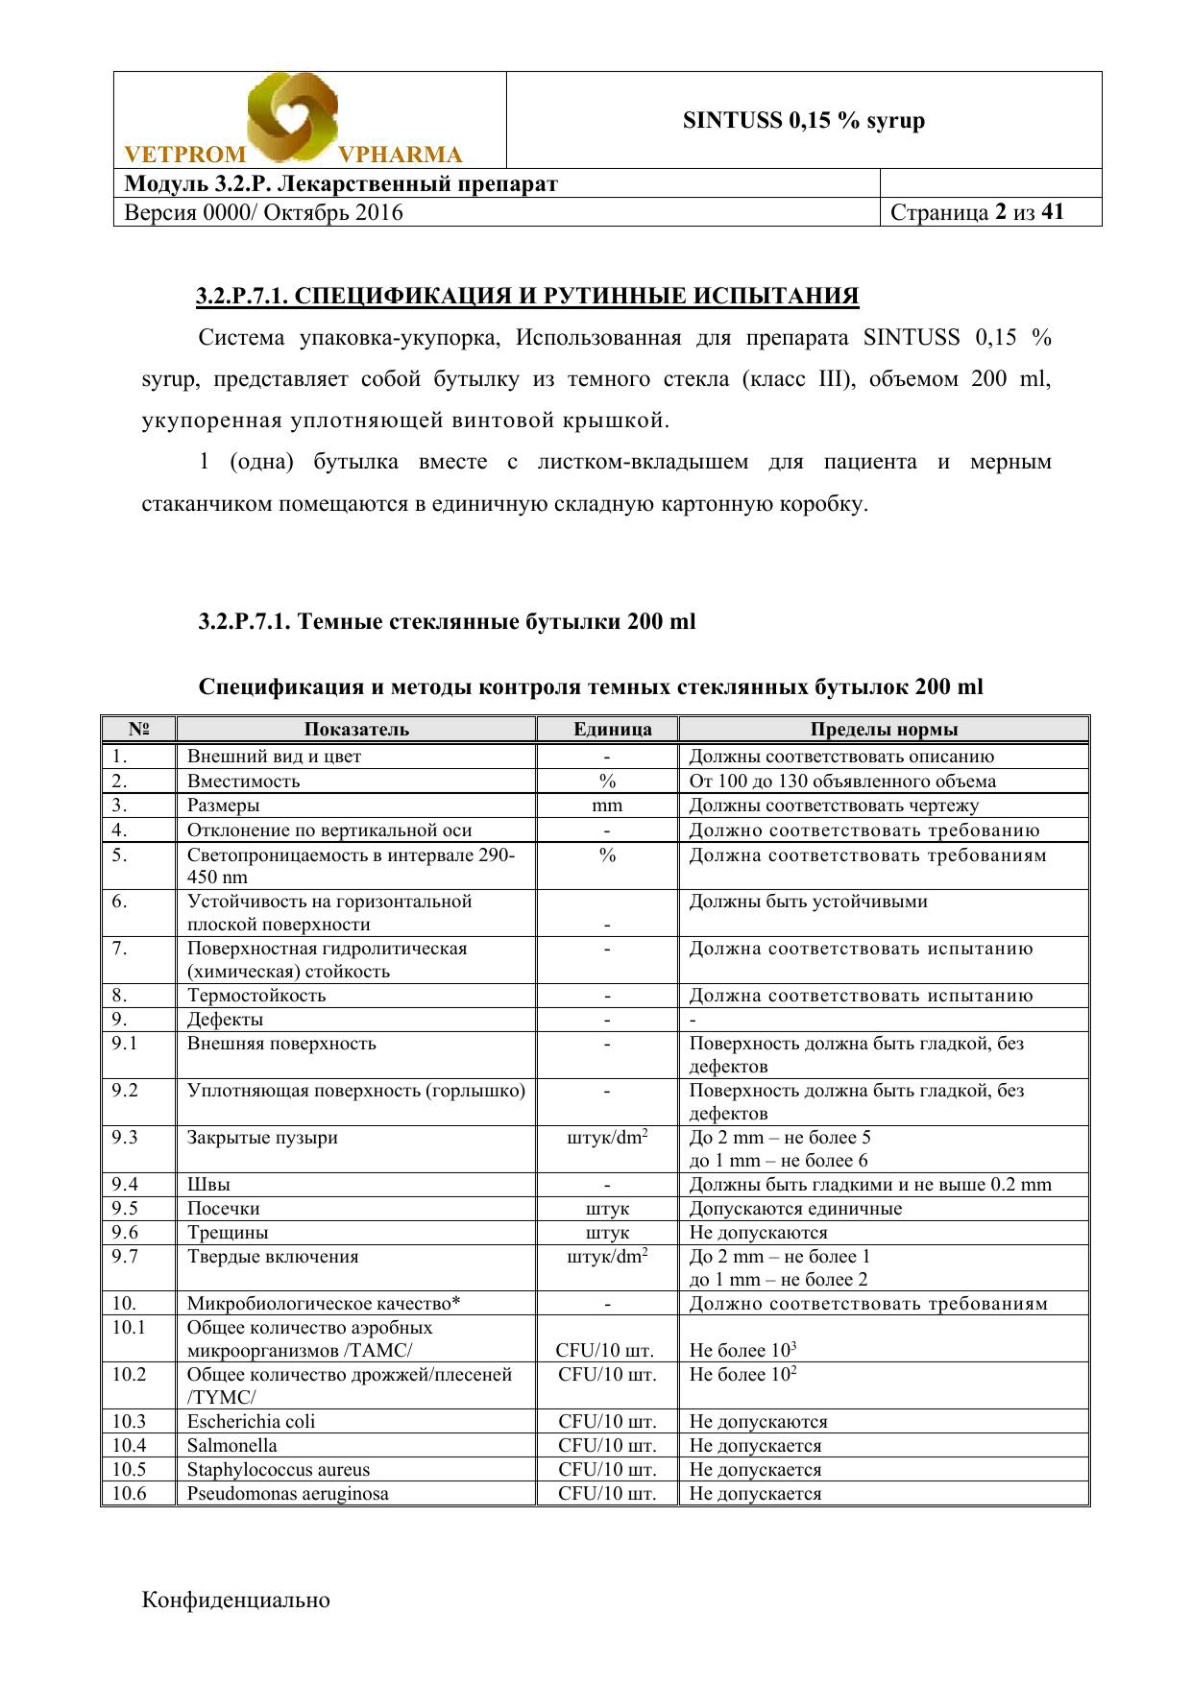full_lined: (99, 713, 1091, 1508)
merged_cells: (112, 68, 1103, 227)
